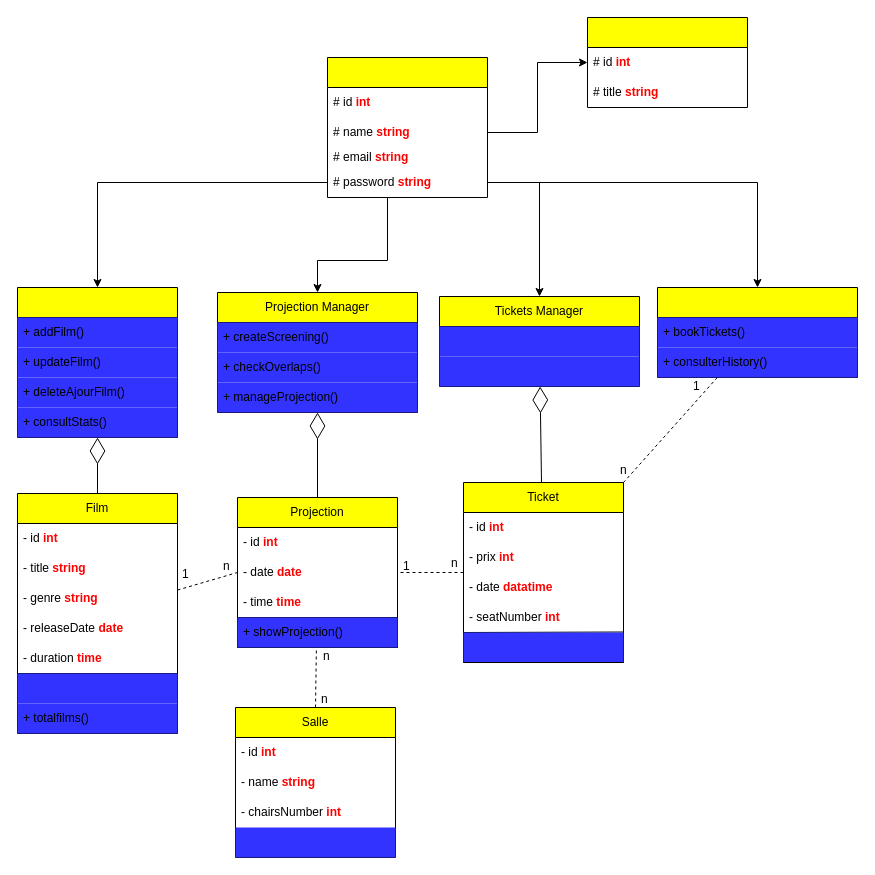
The diagram is 875 pixels wide and 875 high, and some of its shapes have lost their labels. Each missing label, with the box of its shape:
+ c heckRoomCapacity (): (439, 356, 639, 386)
+ showfilms(): (17, 673, 177, 703)
+ showrooms(): (235, 827, 395, 857)
+ t rackReservations (): (439, 326, 639, 356)
+ ticketsSoldOut(): (463, 632, 623, 662)
Admin: (16, 286, 178, 438)
Client: (656, 286, 858, 378)
Member: (326, 56, 488, 198)
Role: (586, 16, 748, 108)
